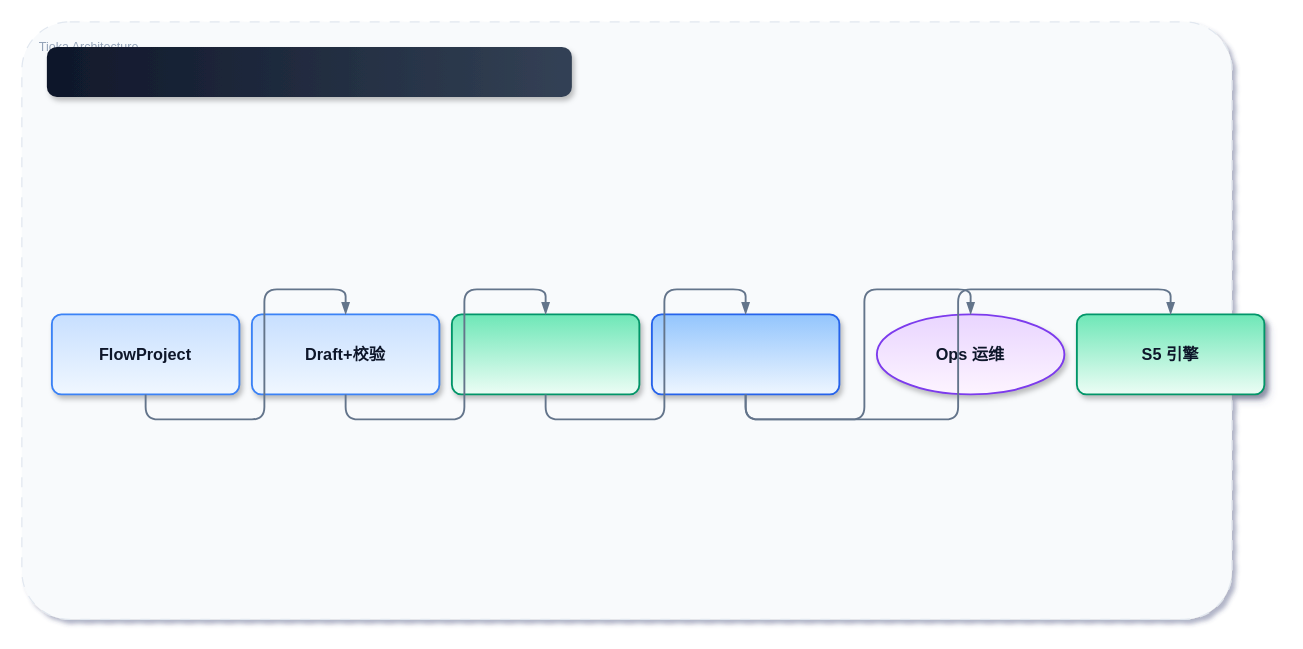
The diagram is 1303 pixels wide and 649 high, and some of its shapes have lost their labels. Each missing label, with the centre of its shape:
Flow 管理控制面: point (310, 73)
Publication 多通道: point (746, 356)
Version: point (546, 356)
